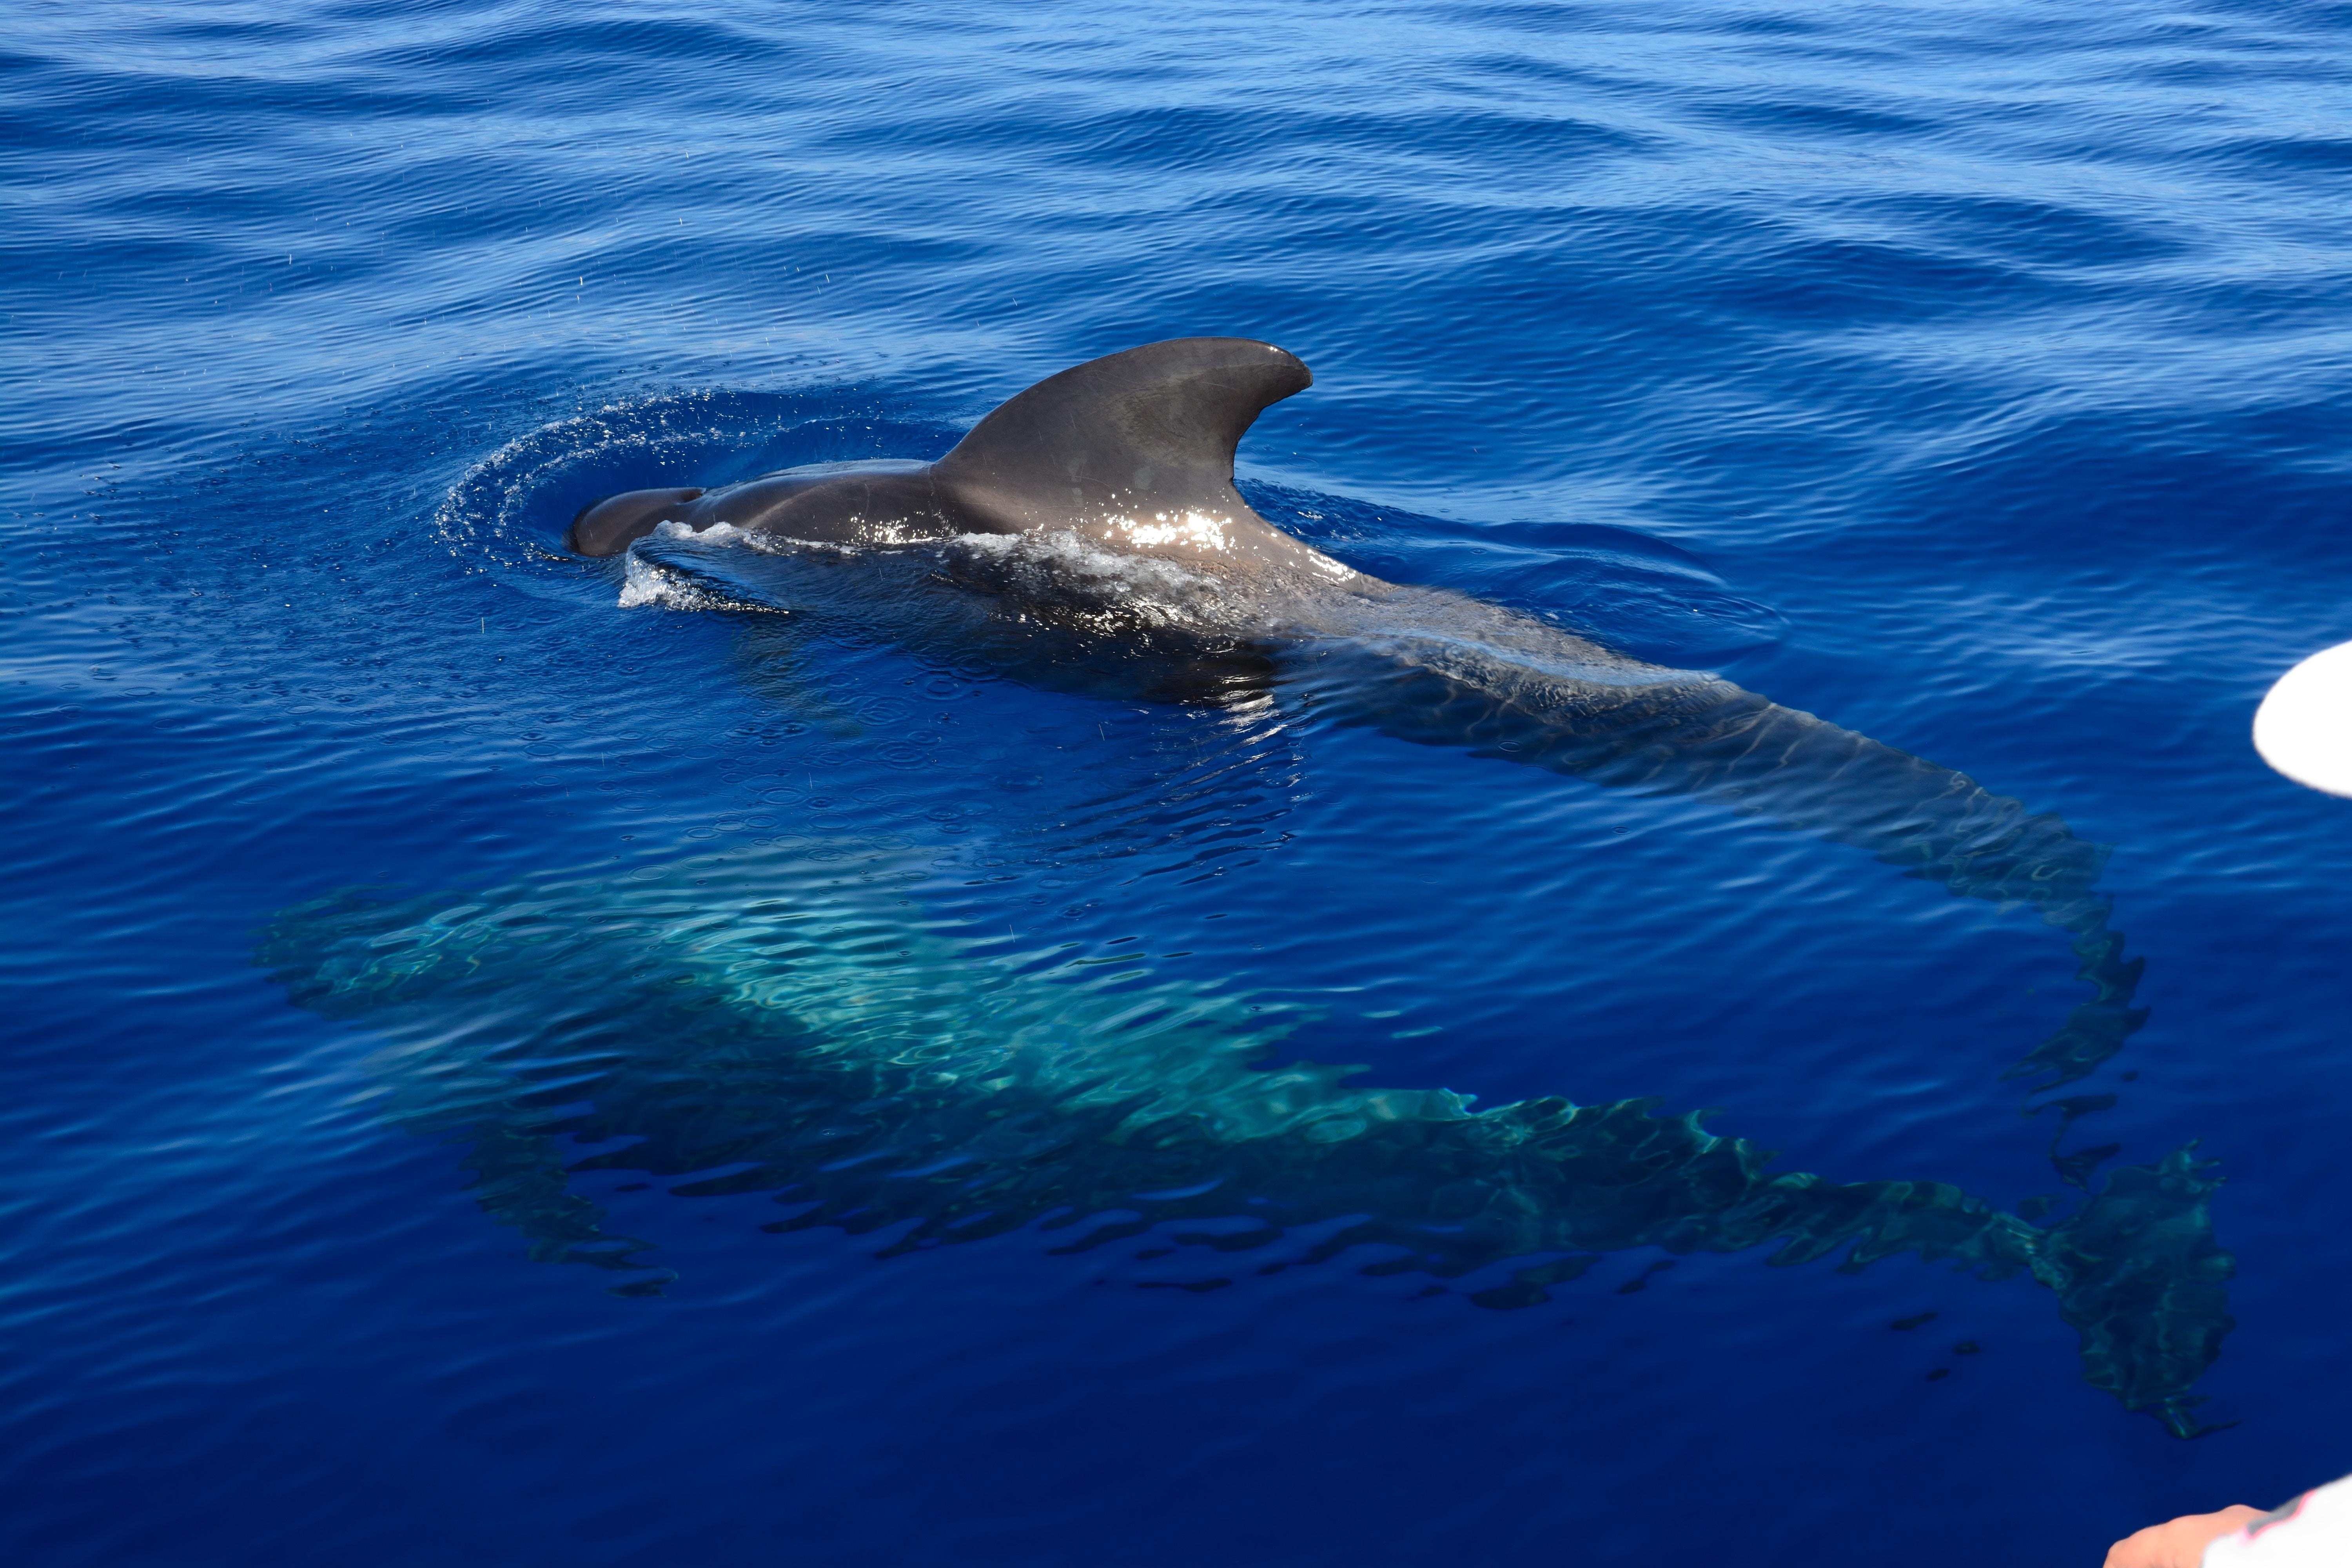fish: (579, 325, 2163, 1067)
